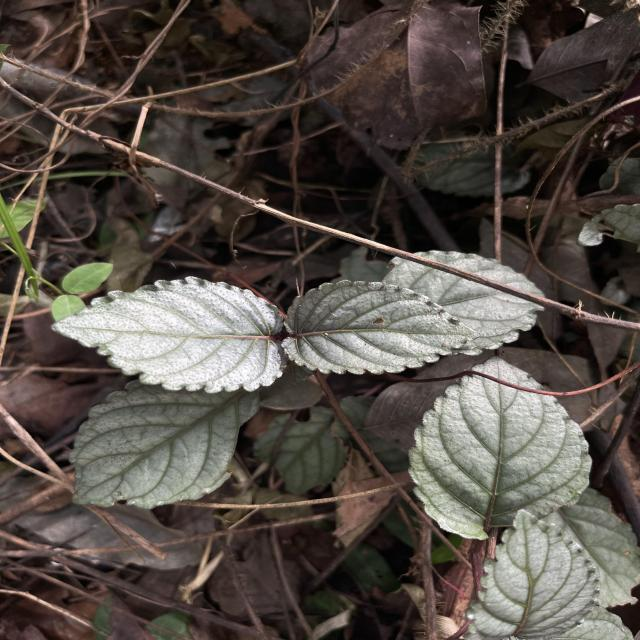Hemigraphis colorata: (404, 352, 596, 544), (47, 274, 290, 396), (65, 377, 265, 512), (277, 277, 483, 379), (462, 505, 604, 640)
